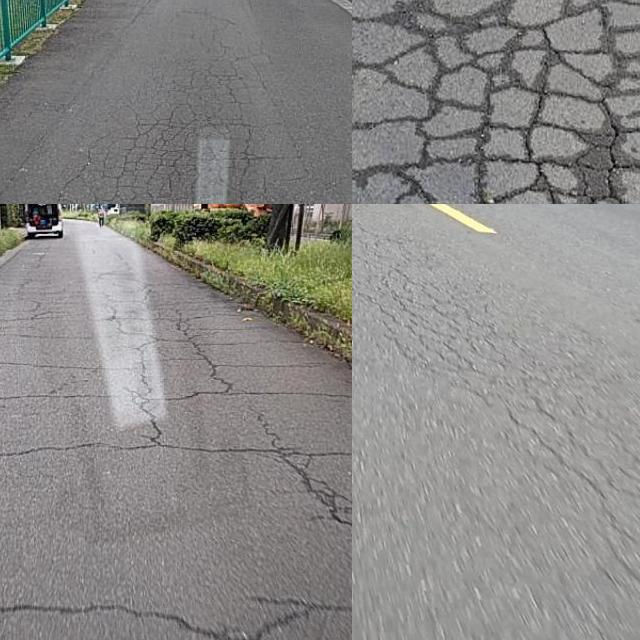Melintang: (0, 595, 352, 640), (0, 427, 352, 469)
Memanjang: (146, 302, 352, 568)
Retak Buaya: (352, 204, 636, 555), (352, 0, 640, 204), (83, 37, 249, 204)
